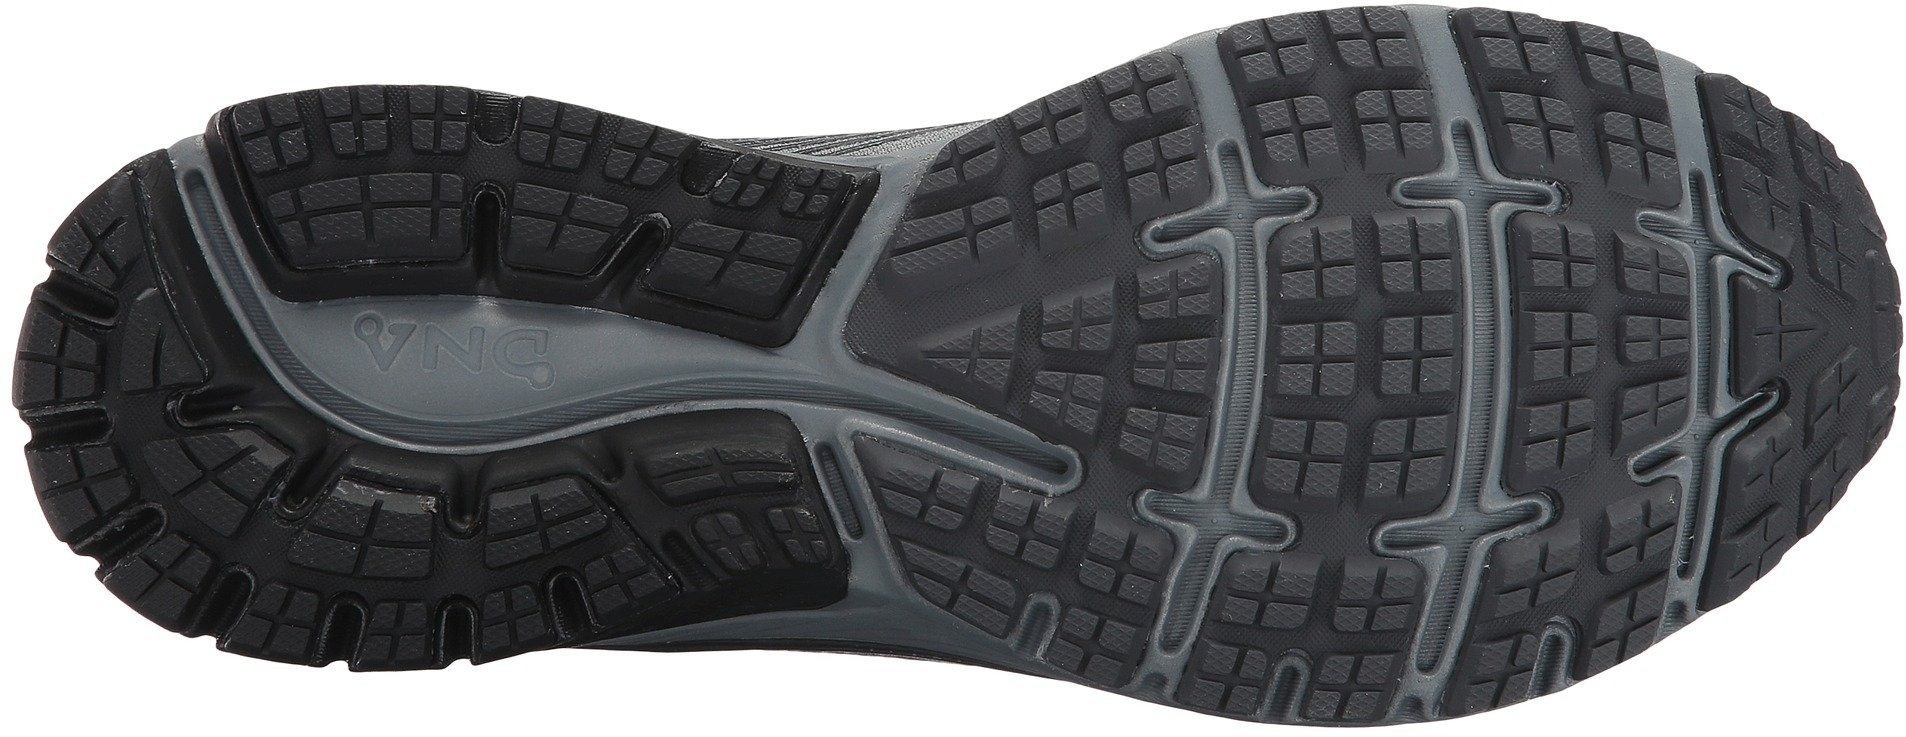quad: (207, 472, 472, 674), (1171, 538, 1419, 735), (1269, 203, 1468, 407), (1265, 208, 1465, 395), (1227, 6, 1438, 165), (1527, 223, 1699, 403), (1498, 13, 1645, 161)
ribbon: (518, 279, 714, 491)
text: (331, 235, 579, 454)
